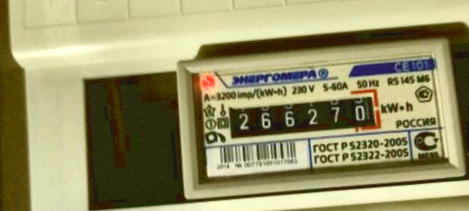0: (352, 103, 364, 124)
2: (235, 111, 251, 133), (305, 107, 318, 128)
6: (258, 111, 272, 132), (282, 109, 295, 129)
7: (328, 105, 341, 125)
screen: (213, 82, 391, 152)
